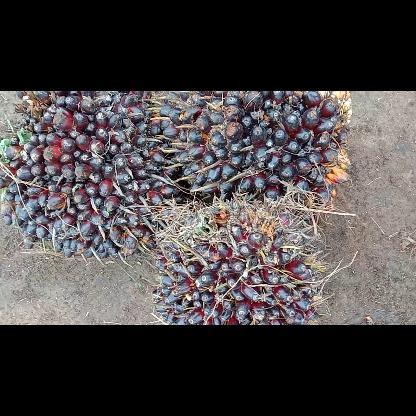TBS mentah: (0, 90, 185, 262), (152, 91, 353, 221), (150, 196, 326, 324)
